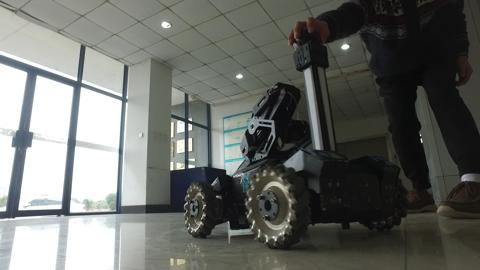chariot: (174, 32, 418, 255)
